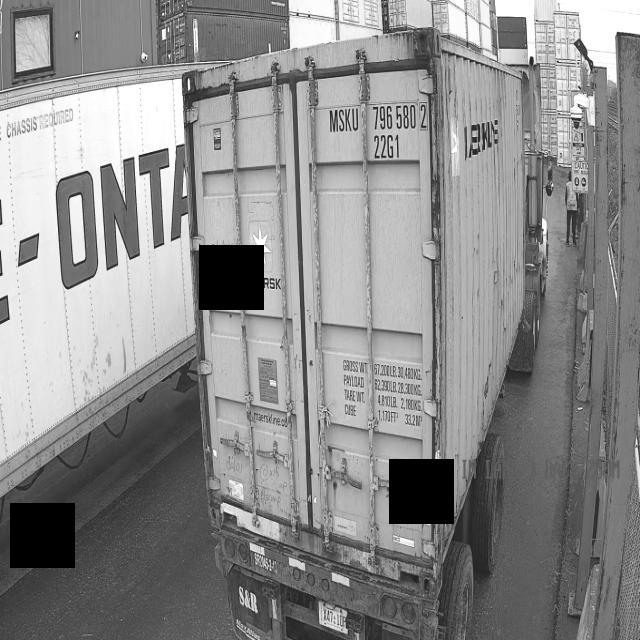container_company_logo: (244, 214, 283, 294)
container_number: (326, 99, 437, 164)
driver: (564, 174, 577, 245)
license_plate: (317, 597, 353, 632)
other_container_info: (337, 355, 426, 438)
truck_with_container: (183, 28, 553, 640), (0, 67, 193, 498)
